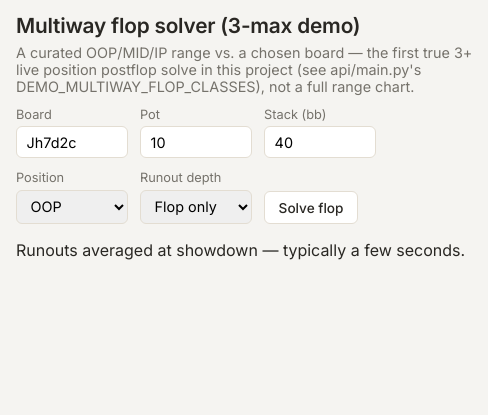
it: MultiwayFlopSolver › shows depth-appropriate button and loading copy
Select "Flop + turn" in the dropdown labelled "Runout depth": (196, 207) [140,190,252,224]
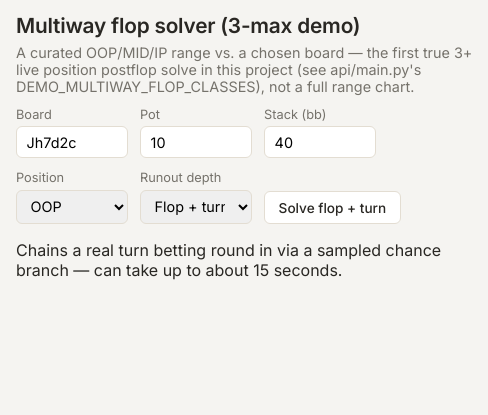
Check: the button "Solve flop + turn" is shown
Click the button "Solve flop + turn": click(332, 208) [264,191,401,224]
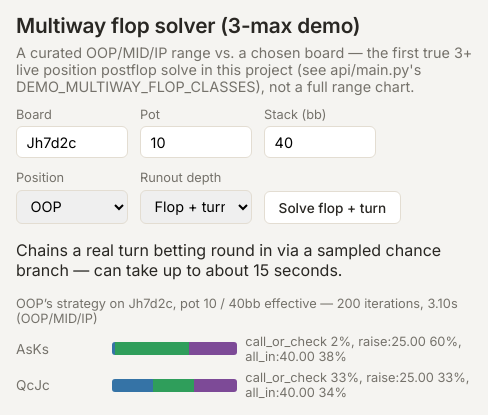
Check: the text "AsKs" is shown, box [16,341,49,357]
